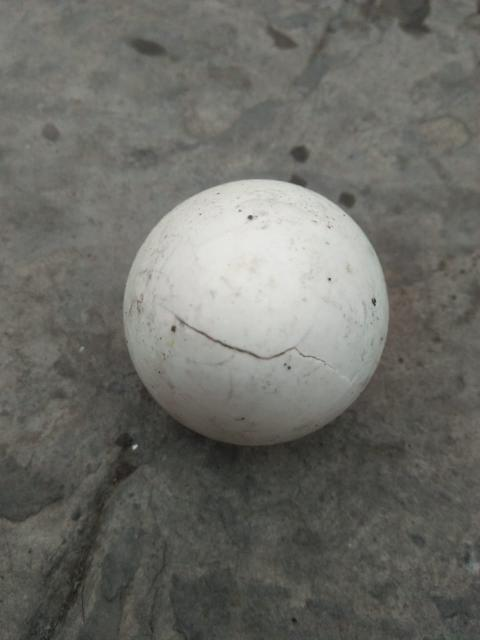Roto: (122, 177, 390, 447)
